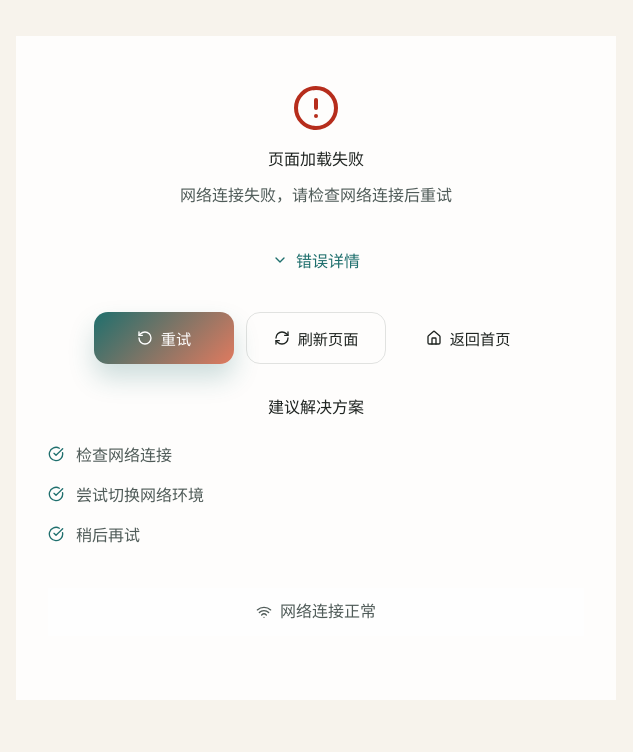
Scenario: ModuleLoadErrorPage › Accessibility › should update aria-expanded when details are toggled
Click to expand
Click the button with class "module-load-error-page__details-toggle": (316,260) [48,240,584,280]
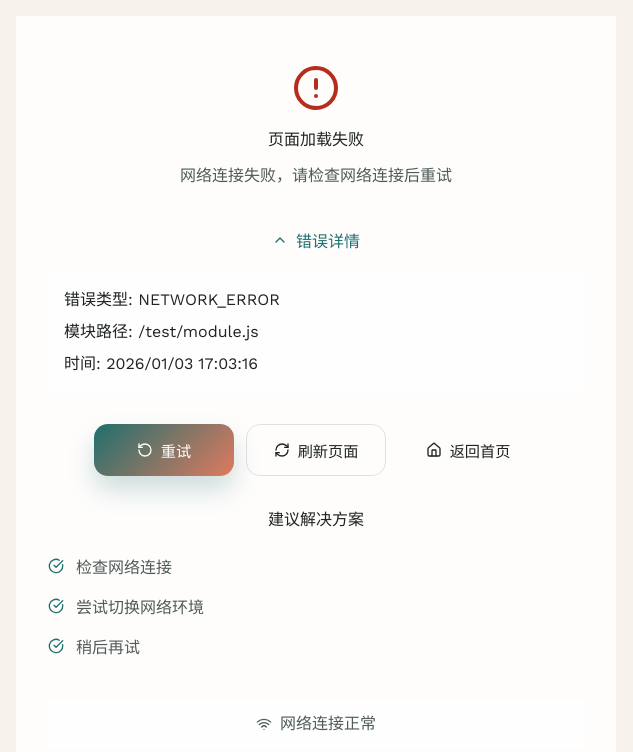
Result: the button with class "module-load-error-page__details-toggle" is expanded at [48,220,584,260]
